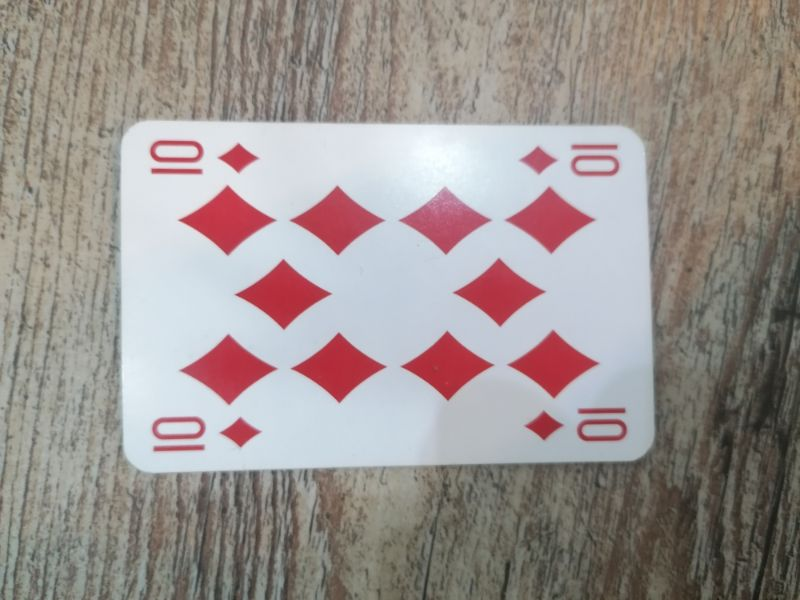Td: (144, 411, 264, 458), (517, 401, 634, 447), (146, 136, 264, 179), (514, 137, 628, 181)
